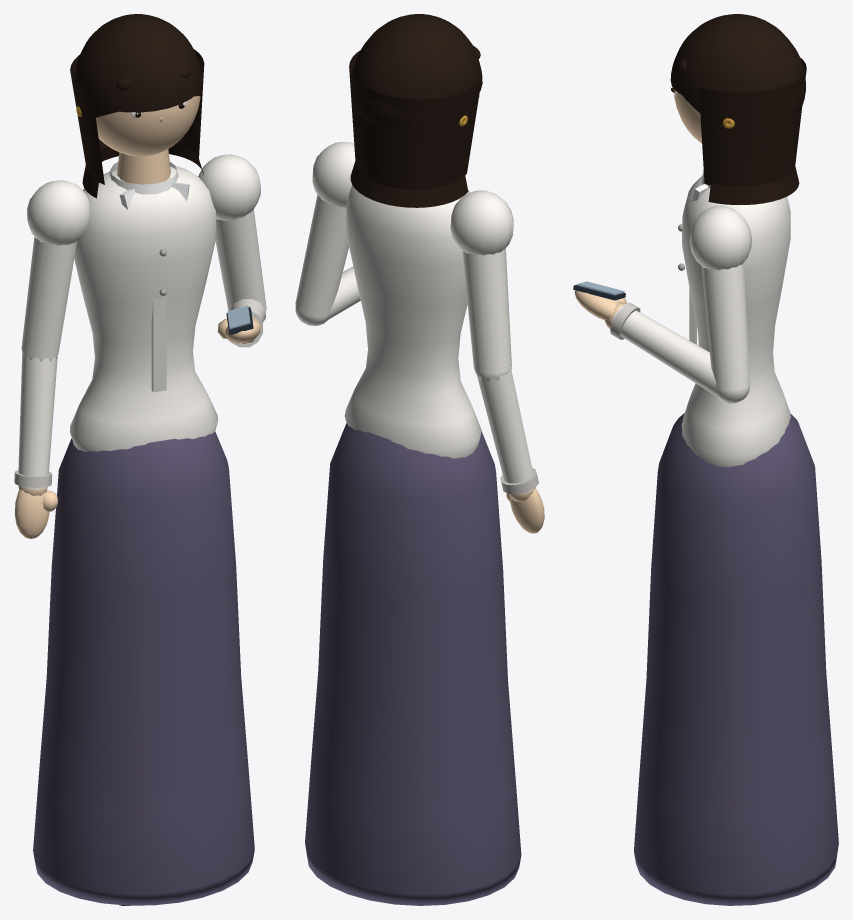
File: 06-mei.glb
3 renders of one model, left to right at view 1: azimuth 30°, elevation 25°; view 2: azimuth 150°, elevation 25°; view 3: azimuth 270°, elevation 25°, orthographic.
Visible parts, largest first — view 1: Mei, skull, armR, elbow (×2), armL; view 2: Mei, skull, armR, elbow (×2), armL; view 3: Mei, skull, armL, elbow.
Boxes of the visible parts, x1,y1,x2,y2 form: Mei: [33, 149, 254, 905]; skull: [70, 14, 204, 198]; armR: [21, 180, 89, 358]; elbow (×2): [14, 299, 265, 538]; armL: [198, 154, 266, 313]; Mei: [305, 185, 521, 905]; skull: [349, 14, 482, 207]; armR: [450, 190, 513, 373]; elbow (×2): [295, 267, 544, 533]; armL: [295, 142, 355, 316]; Mei: [634, 170, 838, 905]; skull: [670, 14, 806, 204]; armL: [689, 205, 751, 389]; elbow: [573, 281, 749, 403].
Bounding box in the file's own units: 0.5309 × 1.75 × 0.4979.
